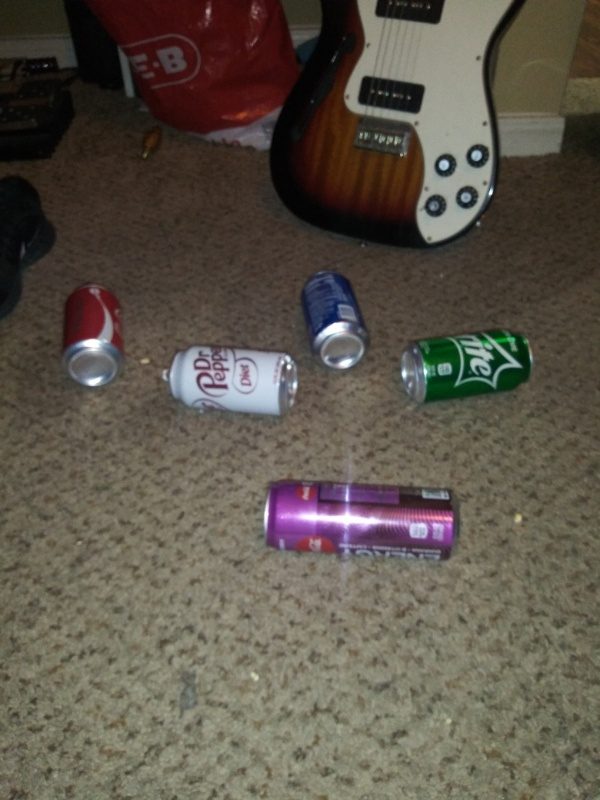can: (262, 477, 461, 566), (399, 329, 538, 406), (155, 344, 299, 418), (59, 280, 131, 387), (300, 266, 372, 371)
